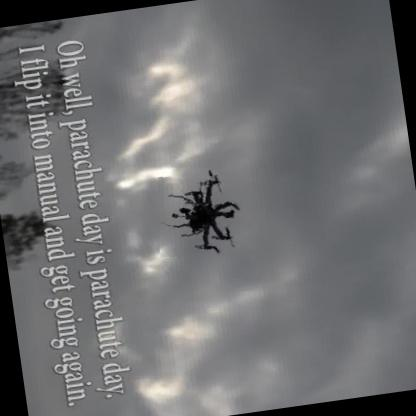drone: (150, 169, 247, 264)
